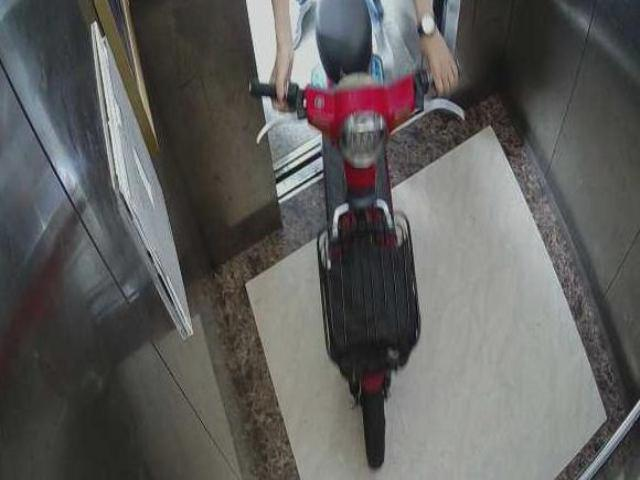emotor: (252, 5, 467, 480)
